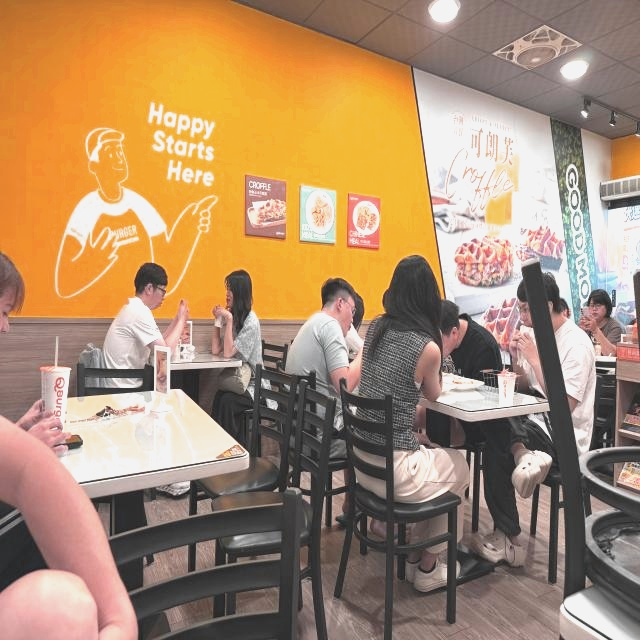Sin_Casco_Mascarrilla: (390, 255, 436, 323), (320, 276, 358, 324), (136, 263, 168, 308), (225, 270, 253, 313), (587, 288, 612, 322)
